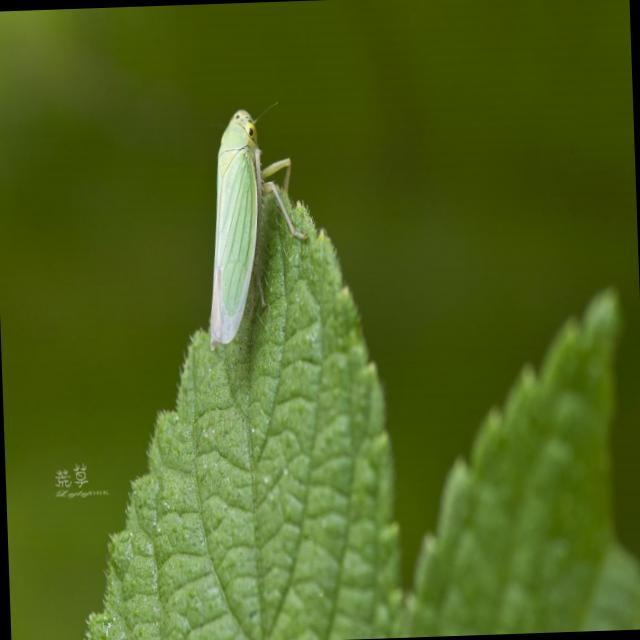green leaf hopper: (210, 110, 278, 343)
